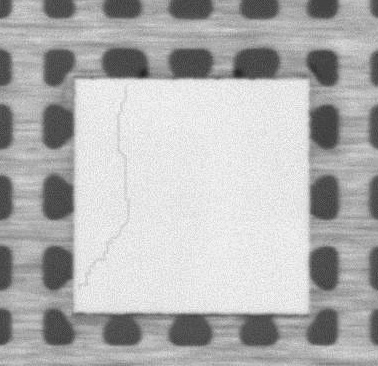DIE_CRACK: (84, 86, 131, 287)
